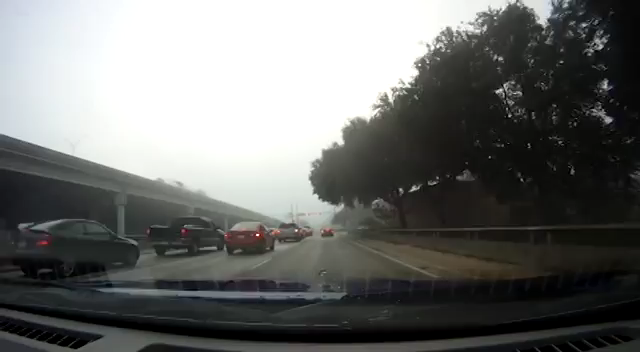car: (12, 218, 141, 277), (147, 216, 228, 255), (224, 221, 275, 253), (275, 222, 303, 241), (300, 225, 313, 236), (320, 227, 334, 236)
